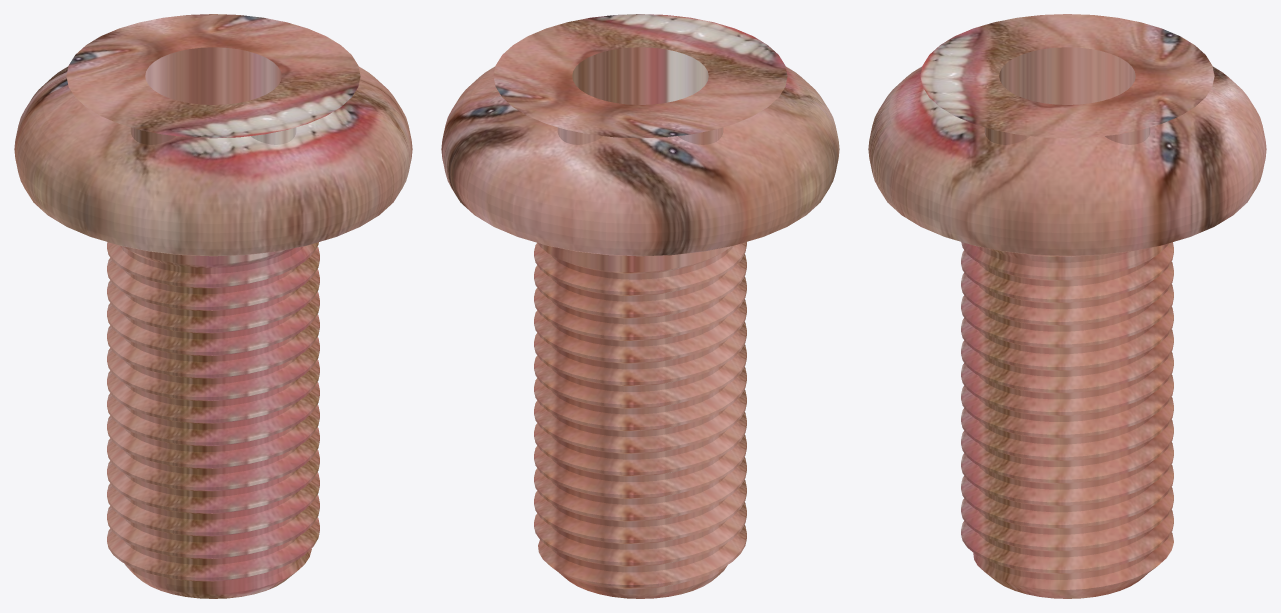
The model's file is kroeger-pan-torx-bolt.glb.
The picture shows the model from 3 angles, left to right: view 1: azimuth 30°, elevation 25°; view 2: azimuth 150°, elevation 25°; view 3: azimuth 270°, elevation 25°; orthographic projection.
Visible parts, largest first — view 1: Bolt.023; view 2: Bolt.023; view 3: Bolt.023.
Part boxes in pixels (box(x1,y1,x2,y2)): Bolt.023: box(14, 14, 412, 598); Bolt.023: box(441, 14, 839, 598); Bolt.023: box(868, 14, 1266, 598).
Bounding box in the file's own units: 0.0112 × 0.0152 × 0.0112.
1 material, 1 textured.
